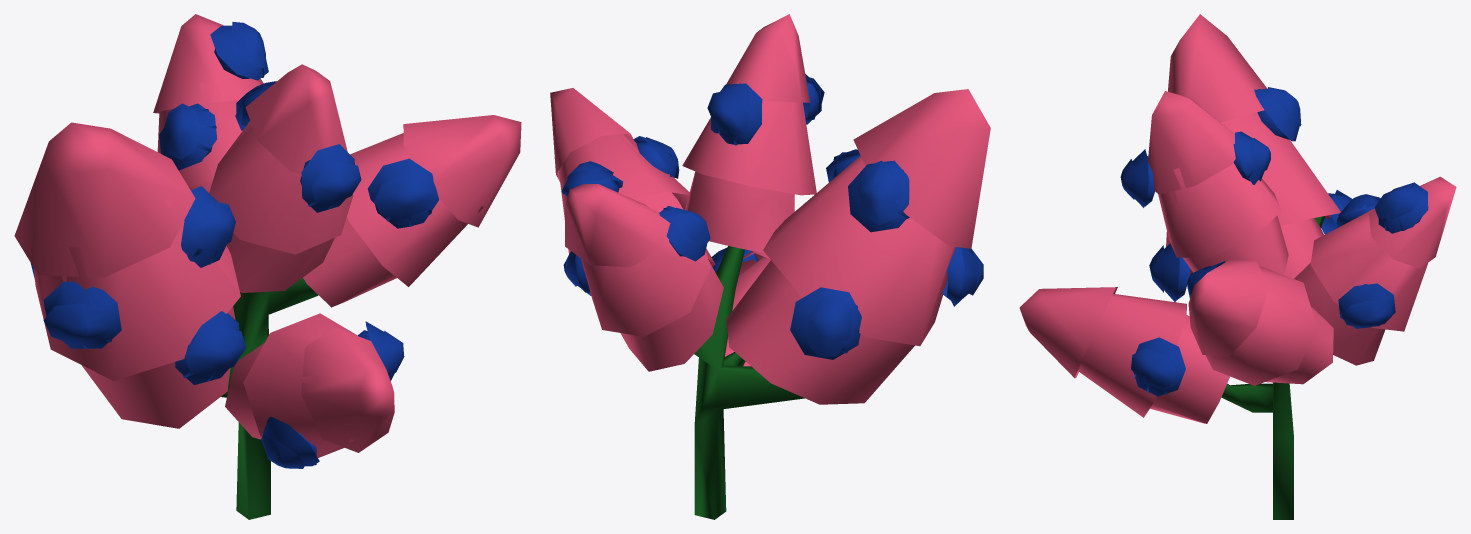
File: Colored Plant (3).fbx
The picture shows the model from 3 angles, left to right: view 1: azimuth 30°, elevation 25°; view 2: azimuth 150°, elevation 25°; view 3: azimuth 270°, elevation 25°; orthographic projection. The views are drawn at different scales.
Visible parts, largest first — view 1: Cube.049; view 2: Cube.049; view 3: Cube.049.
Boxes of the visible parts, x1=… form: Cube.049: x1=14, y1=14, x2=521, y2=519; Cube.049: x1=550, y1=14, x2=990, y2=519; Cube.049: x1=1019, y1=14, x2=1456, y2=519.
Size of the model in its own units: 499 by 495 by 469.
